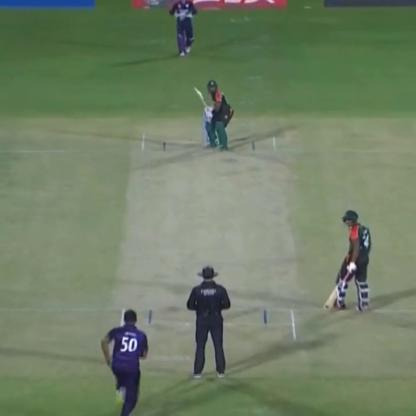bat: (188, 80, 214, 121)
pitch: (114, 126, 306, 347)
